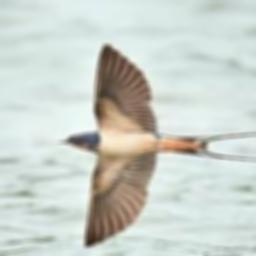Swallow: (58, 43, 256, 246)
